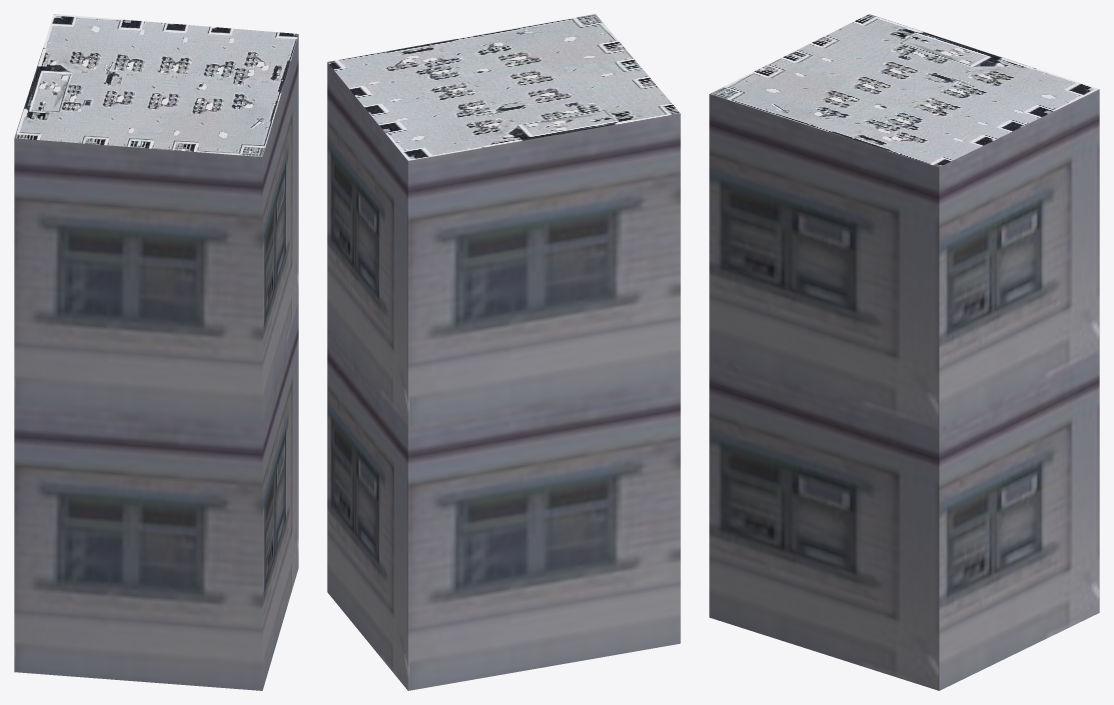
The model's file is ResTex__4102.fbx.
3 views of the same model, side by side, from view 1: azimuth 30°, elevation 25°; view 2: azimuth 150°, elevation 25°; view 3: azimuth 270°, elevation 25° (orthographic).
Visible parts, largest first — view 1: CityEngineMaterial_1_m, CityEngineMaterial_2_m; view 2: CityEngineMaterial_1_m, CityEngineMaterial_2_m; view 3: CityEngineMaterial_1_m, CityEngineMaterial_2_m.
Boxes of the visible parts, x1,y1,x2,y2 form: CityEngineMaterial_1_m: (14, 35, 298, 690); CityEngineMaterial_2_m: (14, 14, 298, 156); CityEngineMaterial_1_m: (327, 62, 680, 690); CityEngineMaterial_2_m: (327, 14, 680, 160); CityEngineMaterial_1_m: (709, 89, 1099, 690); CityEngineMaterial_2_m: (710, 14, 1098, 167).
Size of the model in its own units: 3.77 by 6 by 4.05.
Materials: 2 (2 with a texture image).
